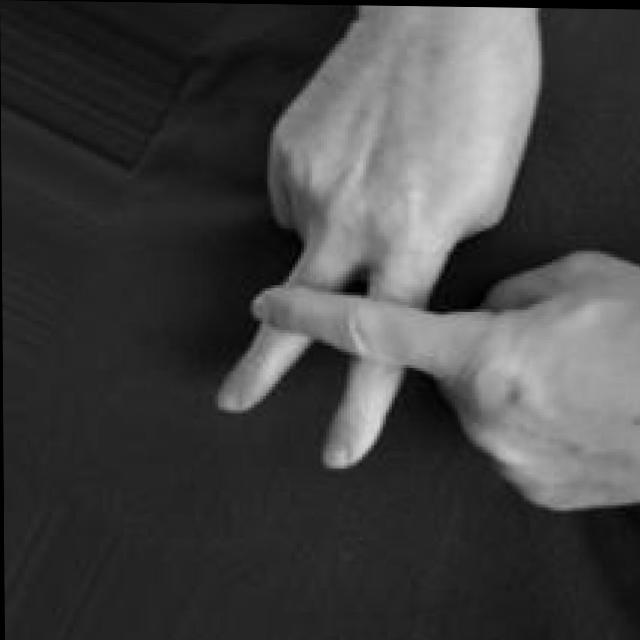A: (206, 3, 640, 511)
